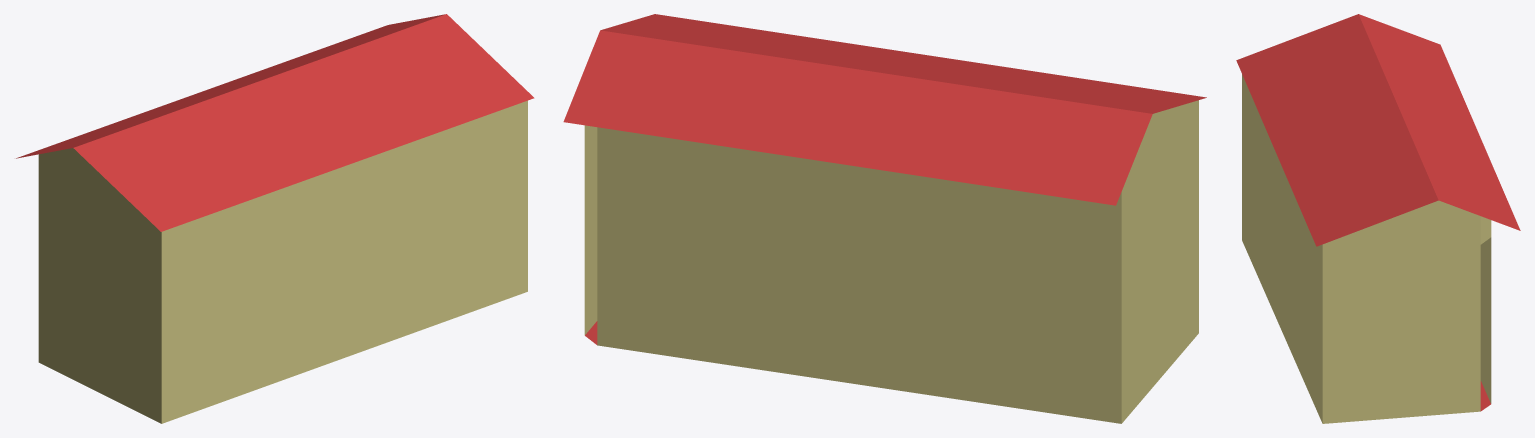
3 renders of one model, left to right at view 1: azimuth 30°, elevation 25°; view 2: azimuth 150°, elevation 25°; view 3: azimuth 270°, elevation 25°, orthographic. The views are drawn at different scales.
Bounding box in the file's own units: 23.37 × 13.9 × 11.62.
